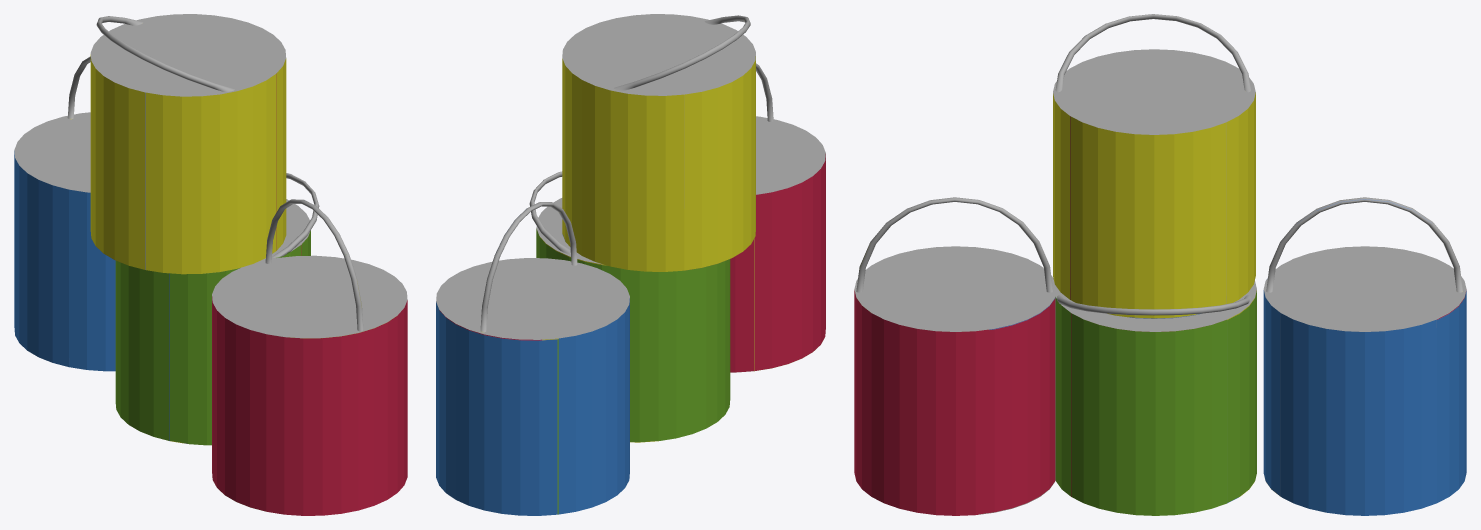
Rendered from Latas.obj.
The picture shows the model from 3 angles, left to right: view 1: azimuth 30°, elevation 25°; view 2: azimuth 150°, elevation 25°; view 3: azimuth 270°, elevation 25°; orthographic projection. The views are drawn at different scales.
Visible parts, largest first — view 1: Cilindro.001_Cilindro.006; view 2: Cilindro.001_Cilindro.006; view 3: Cilindro.001_Cilindro.006.
Boxes of the visible parts, x1,y1,x2,y2 form: Cilindro.001_Cilindro.006: (14, 14, 407, 515); Cilindro.001_Cilindro.006: (436, 14, 825, 515); Cilindro.001_Cilindro.006: (854, 14, 1466, 515).
Size of the model in its own units: 5.02 by 9.34 by 12.7.
1 material, 1 textured.
